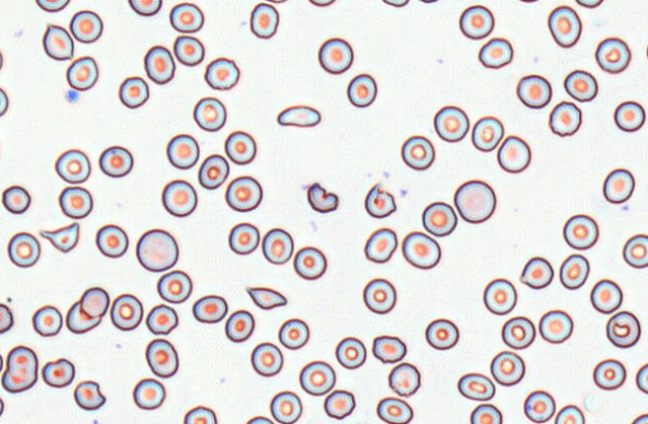PLT: (64, 89, 82, 107)
RBC: (453, 179, 496, 223), (135, 228, 178, 272), (1, 345, 38, 393), (401, 230, 441, 269), (547, 5, 582, 47), (225, 175, 262, 212), (562, 213, 599, 250), (594, 36, 631, 73), (161, 179, 197, 217), (605, 310, 641, 348), (496, 134, 531, 173), (433, 105, 469, 142), (145, 338, 178, 378), (54, 148, 91, 183), (318, 37, 353, 74), (299, 360, 335, 395), (421, 201, 457, 236), (490, 350, 525, 386), (458, 4, 494, 39), (109, 293, 143, 330), (362, 277, 396, 314), (483, 278, 517, 315), (143, 45, 175, 84), (156, 269, 192, 303), (516, 74, 552, 108), (548, 100, 582, 136), (471, 115, 504, 152), (58, 185, 93, 219), (400, 135, 434, 170), (538, 309, 573, 343), (166, 133, 199, 169), (7, 231, 40, 267), (261, 227, 293, 264), (501, 315, 535, 349), (69, 9, 103, 43), (95, 223, 128, 258), (293, 245, 326, 280), (204, 57, 239, 90), (193, 96, 226, 131), (563, 69, 598, 102), (66, 55, 98, 91), (590, 278, 622, 314), (250, 342, 283, 376), (519, 256, 553, 289), (388, 362, 420, 397), (224, 130, 256, 165), (98, 145, 133, 177), (602, 168, 634, 203), (198, 153, 229, 189), (457, 372, 495, 401), (269, 390, 302, 423), (132, 377, 165, 410), (425, 318, 459, 350), (592, 358, 626, 390), (478, 37, 513, 68), (169, 2, 204, 33), (559, 253, 589, 289), (249, 2, 279, 38), (145, 303, 178, 335), (228, 222, 260, 255), (523, 390, 555, 423), (346, 73, 377, 107), (192, 294, 228, 323), (613, 100, 645, 132), (335, 336, 366, 369), (41, 357, 75, 387), (371, 334, 406, 363), (376, 396, 413, 423), (31, 304, 62, 336), (118, 76, 149, 108), (224, 309, 254, 342), (278, 318, 309, 349), (173, 35, 204, 66), (79, 286, 109, 318), (323, 389, 355, 419), (73, 380, 105, 410), (622, 233, 647, 268), (1, 184, 30, 214), (469, 403, 502, 423), (183, 405, 217, 423), (554, 404, 585, 423), (128, 0, 162, 16), (35, 0, 70, 12), (0, 302, 13, 333), (635, 363, 647, 394), (0, 86, 8, 117), (575, 0, 604, 8), (245, 415, 274, 423), (381, 0, 409, 7), (308, 0, 335, 7), (630, 413, 647, 423), (0, 132, 3, 162), (0, 396, 4, 416), (0, 48, 3, 72), (264, 0, 288, 3), (516, 0, 540, 3), (418, 0, 439, 3)
Schistocyte: (38, 222, 81, 254), (41, 23, 75, 62), (65, 301, 104, 334), (305, 179, 339, 214), (247, 285, 290, 312), (276, 104, 324, 128), (365, 183, 397, 218)
